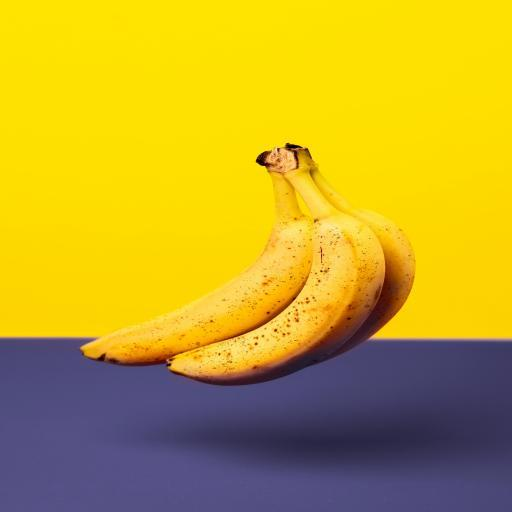banana: (83, 191, 313, 365), (169, 210, 382, 383)
